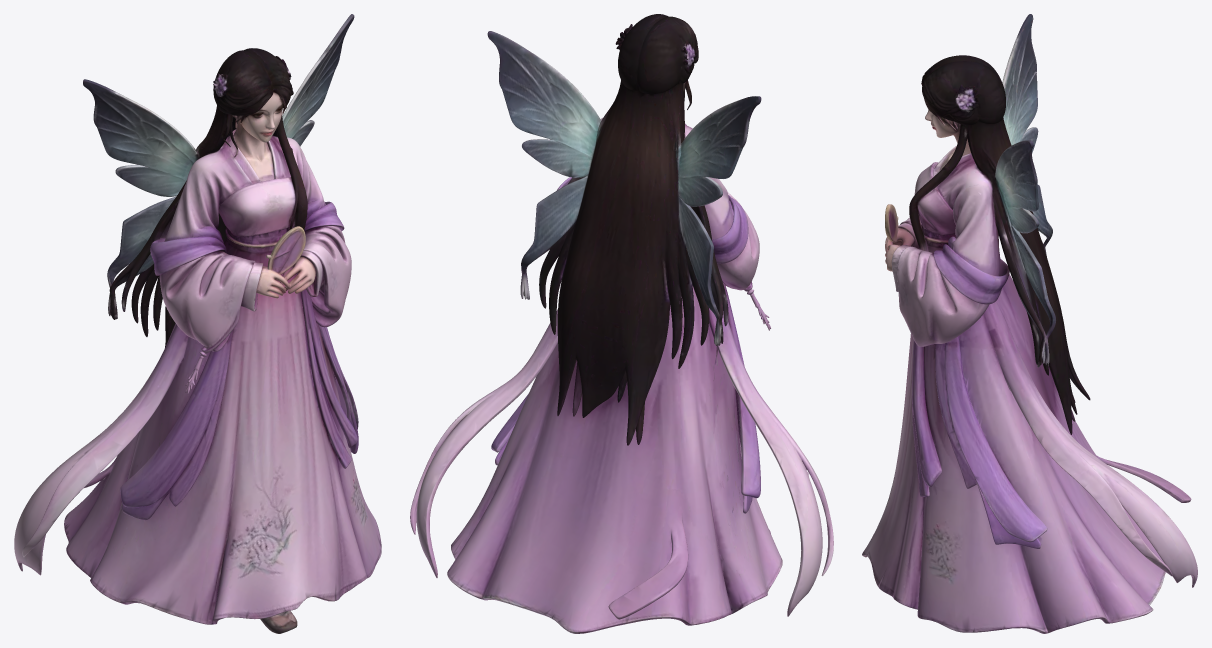
File: xz_web.glb
3 views of the same model, side by side, from view 1: azimuth 30°, elevation 25°; view 2: azimuth 150°, elevation 25°; view 3: azimuth 270°, elevation 25° (orthographic). The views are drawn at different scales.
Visible parts, largest first — view 1: node_0; view 2: node_0; view 3: node_0.
Part boxes in pixels (left/top/right/bottom): node_0: left=14, top=14, right=381, bottom=633; node_0: left=410, top=14, right=833, bottom=633; node_0: left=862, top=14, right=1197, bottom=633.
Bounding box in the file's own units: 0.701 × 1.08 × 0.6065.
Materials: 1 (1 with a texture image).
